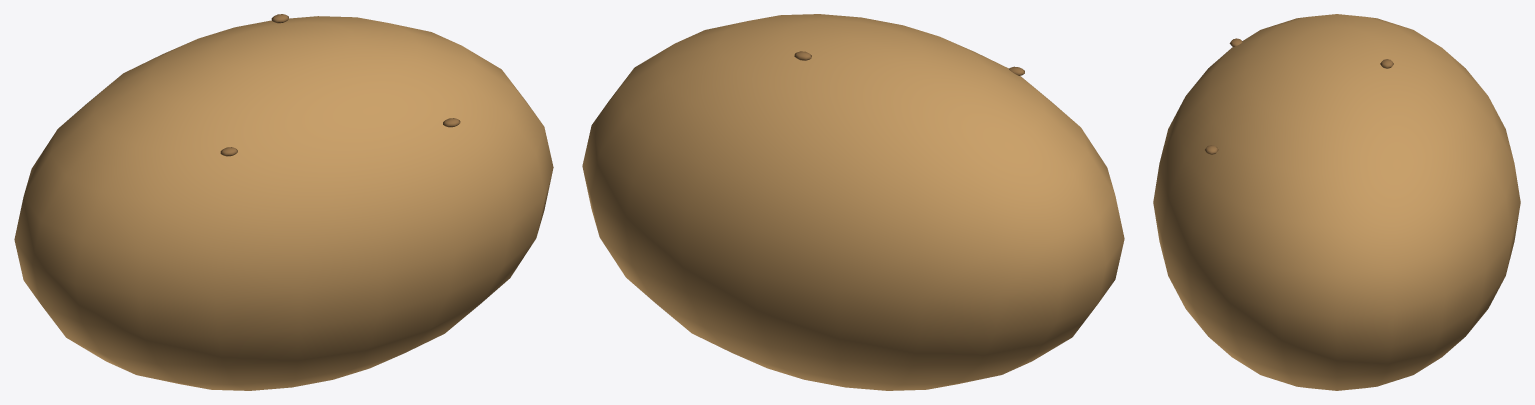
File: potato.glb
3 views of the same model, side by side, from view 1: azimuth 30°, elevation 25°; view 2: azimuth 150°, elevation 25°; view 3: azimuth 270°, elevation 25° (orthographic). The views are drawn at different scales.
Visible parts, largest first — view 1: potato; view 2: potato; view 3: potato.
Boxes of the visible parts, box(x1,y1,x2,y2) form: potato: box(14, 16, 553, 390); potato: box(582, 14, 1124, 390); potato: box(1153, 14, 1520, 390).
Bounding box in the file's own units: 0.65 × 0.401 × 0.44.
